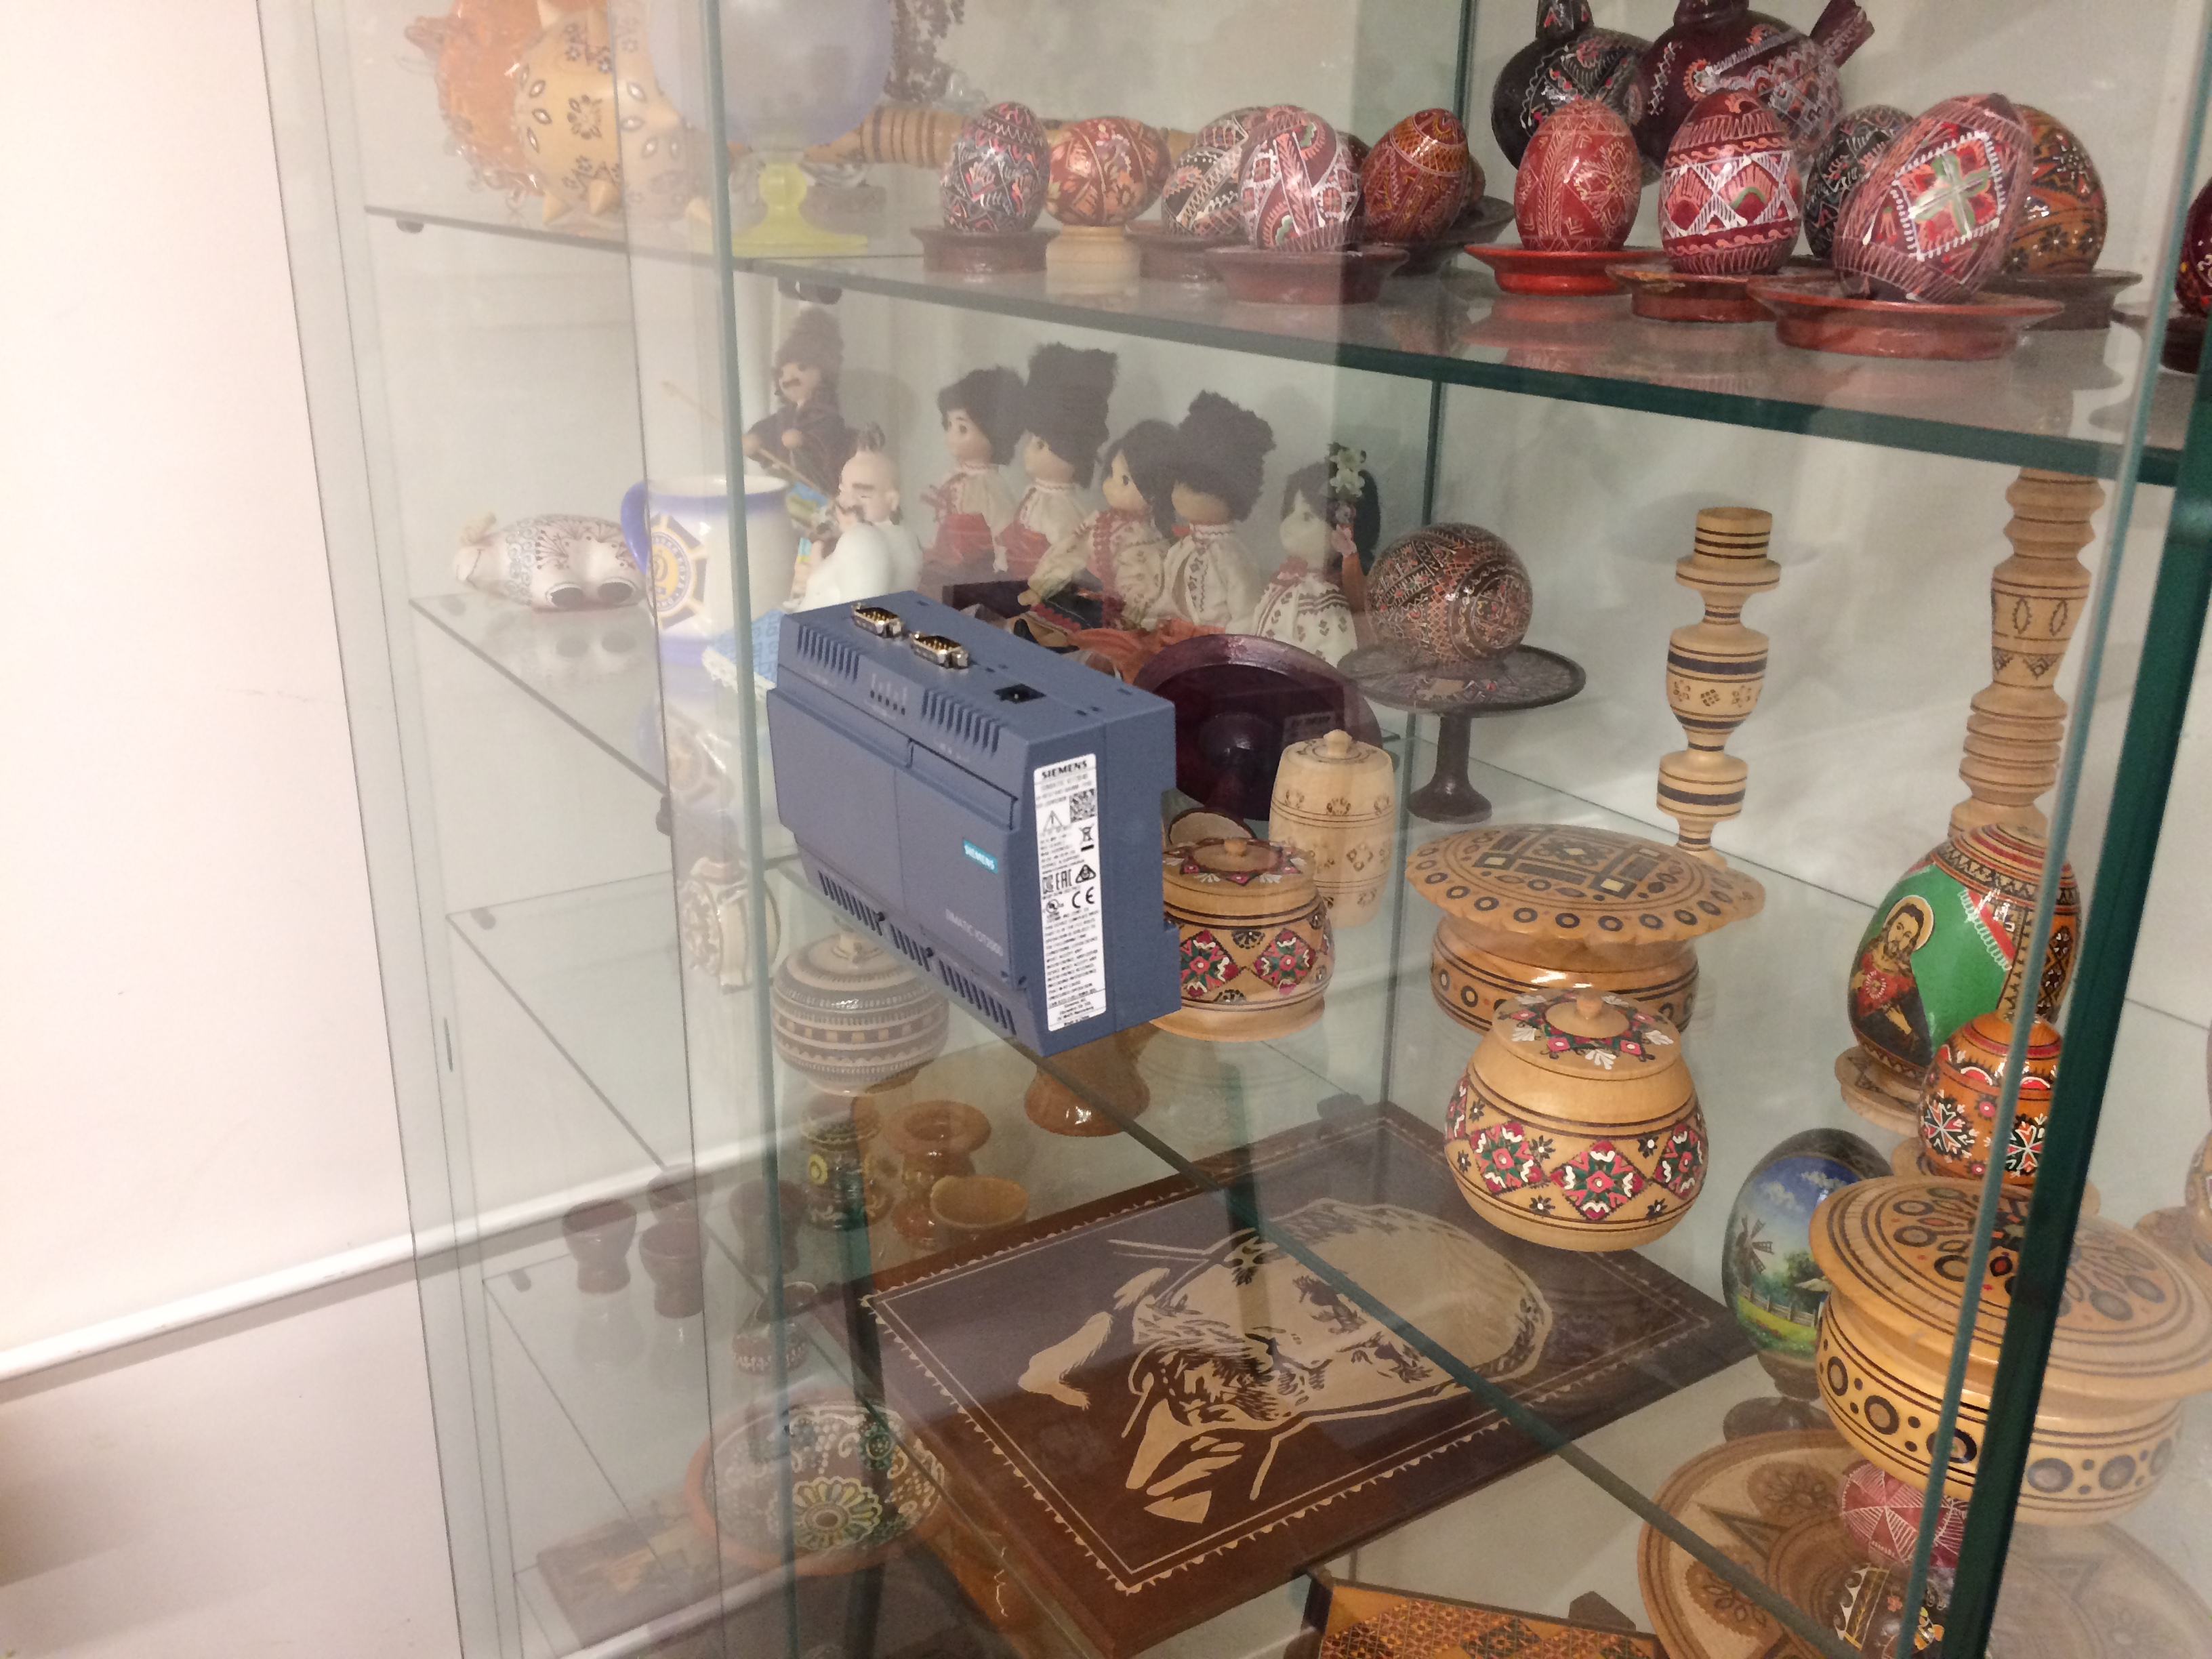iot2000: (763, 587, 1186, 1065)
